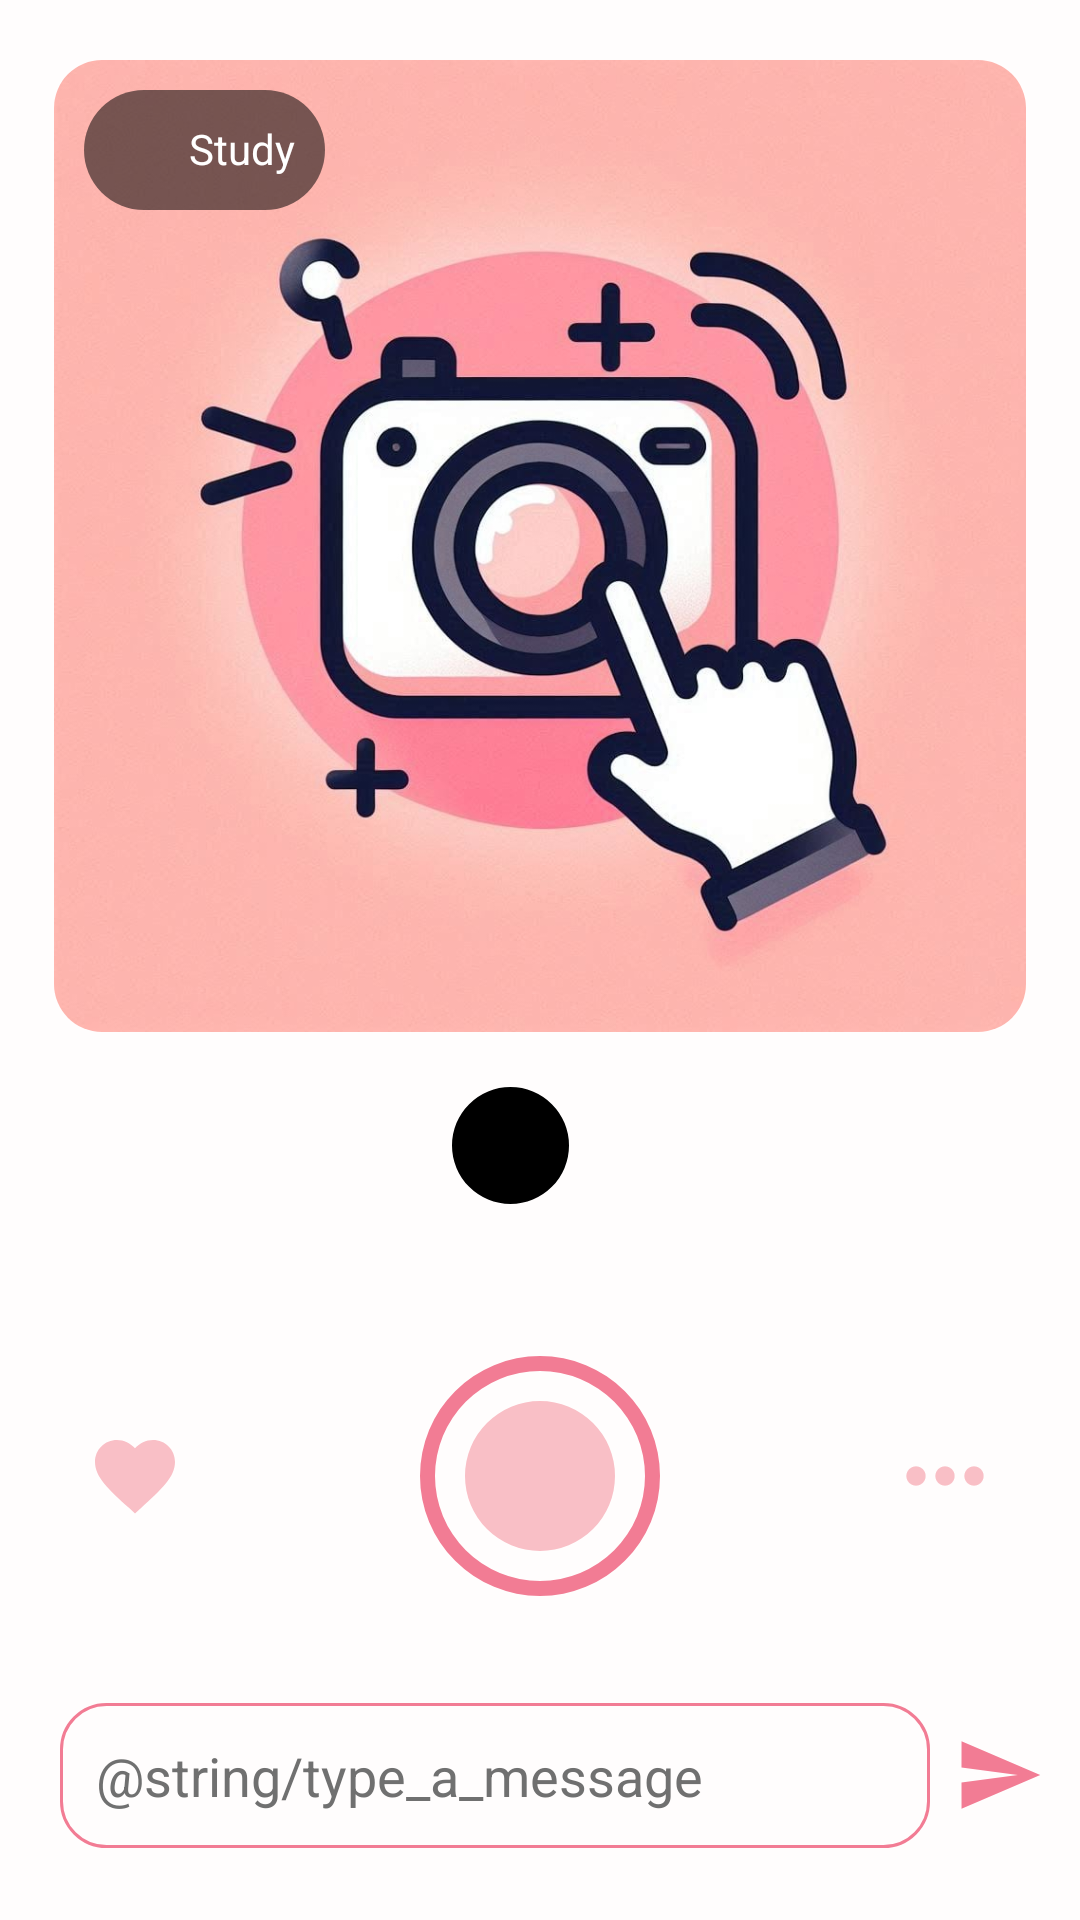

Icon click points for this 1080*1920 phone screenshot, format [x,y]:
menu: [945,1476]
send: [1000,1775]
unfavourite: [135,1476]
